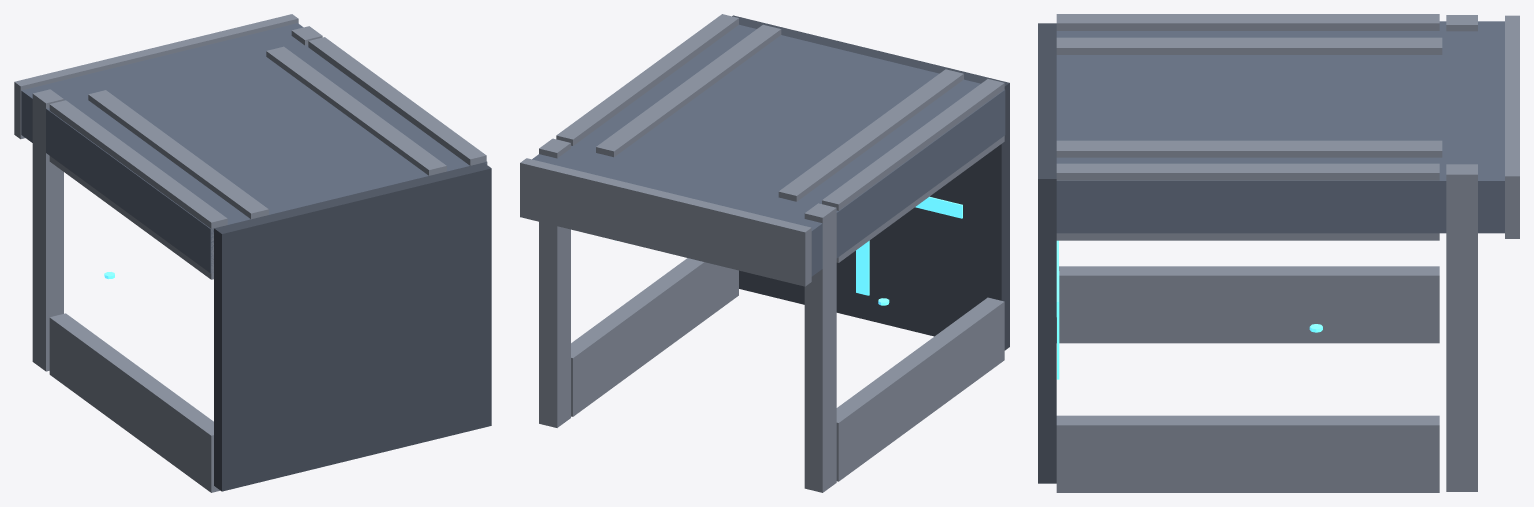
The model's file is corridor_t_3p946.glb.
3 views of the same model, side by side, from view 1: azimuth 30°, elevation 25°; view 2: azimuth 150°, elevation 25°; view 3: azimuth 270°, elevation 25° (orthographic). The views are drawn at different scales.
Parts seen in each view (by area): view 1: Floor.002, Wall.002, EndPillar.008, EndLintel.004, EndPillar.009, Buttress.004, Buttress.005, EndPillar.011, Cap.002; view 2: Wall.002, Floor.002, Cap.002, EndPillar.008, EndPillar.010, EndLintel.004, EndLintel.005, EndPillar.009, Buttress.005, Buttress.004, EndPillar.011, RuneBranch (+1 smaller); view 3: Wall.002, EndPillar.010, EndPillar.008, EndLintel.005, EndPillar.011, Floor.002, Buttress.004, Buttress.005, EndPillar.009, Cap.002, EndLintel.004.
Boxes of the visible parts, x1,y1,x2,y2 form: Floor.002: (214,162,491,491); Wall.002: (21,23,487,273); EndPillar.008: (49,313,220,492); EndLintel.004: (32,89,63,371); EndPillar.009: (49,100,227,279); Buttress.004: (88,90,268,219); Buttress.005: (266,46,446,175); EndPillar.011: (308,37,486,165); Cap.002: (14,14,298,139); Wall.002: (532,24,1005,276); Floor.002: (732,15,1009,350); Cap.002: (520,158,811,286); EndPillar.008: (836,297,1004,481); EndPillar.010: (571,258,738,416); EndLintel.004: (804,203,836,492); EndLintel.005: (539,138,570,427); EndPillar.009: (822,79,1004,262); Buttress.005: (596,24,781,157); Buttress.004: (778,69,963,201); EndPillar.011: (556,14,738,145); RuneBranch: (856,240,869,295); Wall.002: (1056,21,1504,233); EndPillar.010: (1056,415,1439,492); EndPillar.008: (1056,266,1439,343); EndLintel.005: (1446,164,1477,491); EndPillar.011: (1056,163,1439,240); Floor.002: (1038,23,1056,483); Buttress.004: (1056,37,1442,54); Buttress.005: (1056,140,1442,157); EndPillar.009: (1056,14,1439,30); Cap.002: (1505,15,1519,238); EndLintel.004: (1446,15,1477,31).
Size of the model in its own units: 4.07 by 3.78 by 5.16.
